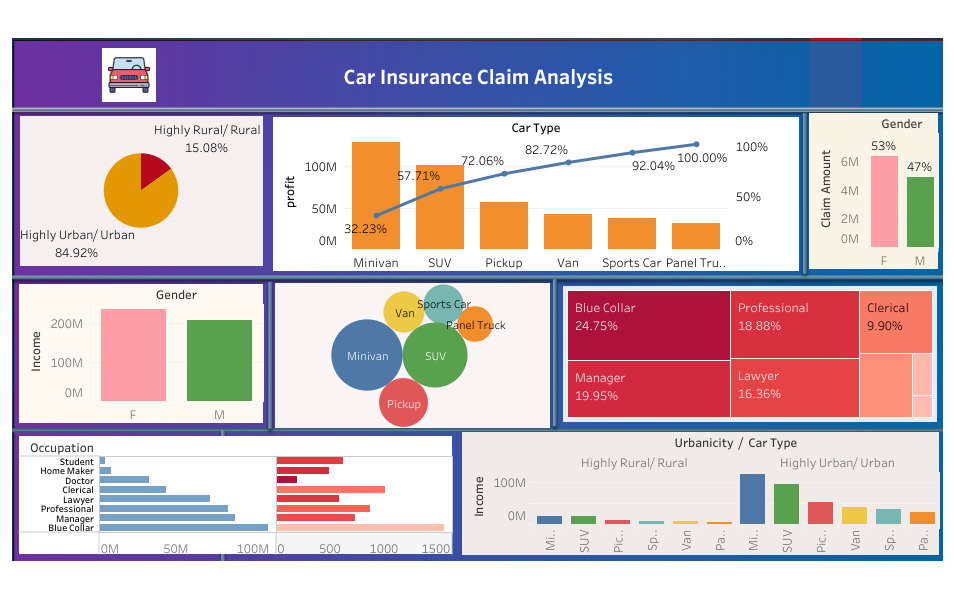

Layout of this report page (visuals, bound fields, positions):
{"tool":"tableau","page":{"name":"Dashboard 5","canvas":[1000,1000],"units":"permille","ordinal":4},"visuals":[{"type":"image","param":"Image/Tablue_background.png","box":[8.4,13.3,983.2,973.3]},{"type":"text","box":[24.1,76.7,953.9,100]},{"type":"image","param":"Image/carimage.gif","box":[25.1,80,219.9,90]},{"type":"legend","title":"Income Vs Claim","param":"[federated.0nkajm80y9i0zp1g5521x02kgp4m].[sum:CLM_FREQ:qk]","box":[851.5,172.8,65.8,276.2]},{"type":"parameter","param":"[Parameters].[Parameter 1]","box":[917.3,172.8,65.8,276.2]},{"type":"worksheet","title":"Income Bifercation","mark":"Pie","box":[16.8,186.7,261.8,261.7]},{"type":"worksheet","title":"Sheet 25","mark":"Automatic","rows":["CLM_AMT"],"cols":["GENDER"],"box":[847.1,188.3,135.1,260]},{"type":"worksheet","title":"car type vs profit parito","mark":"Automatic","rows":["Calculation_803048144566624260","Calculation_803048144566624260"],"cols":["CAR_TYPE"],"box":[285.9,195,550.8,256.7]},{"type":"worksheet","title":"Sheet 26","mark":"Automatic","rows":["INCOME"],"cols":["GENDER"],"box":[15.7,466.7,263.9,245]},{"type":"worksheet","title":"ocupation wise comp","mark":"Automatic","box":[585.3,470,398.9,240]},{"type":"worksheet","title":"Sheet 27","mark":"Circle","box":[288,471.7,286.9,240]},{"type":"worksheet","title":"Income Vs Claim","mark":"Automatic","rows":["OCCUPATION"],"cols":["INCOME","CLM_FREQ"],"box":[15.7,720,462.8,211.7]},{"type":"worksheet","title":"Sheet 23","mark":"Automatic","rows":["INCOME"],"cols":["URBANICITY","CAR_TYPE"],"box":[483.8,720,499.5,206.7]}]}

Visuals, with their boxes on the dashboard's canvas, which has no fixed pixel size, in thousandths of its width and height (x1, y1, x2, y2). These are canvas units, not pixel positions in the 954x599 screenshot, which may show the page scaled, cropped or inside an application window:
image: <region>8, 13, 992, 987</region>
text: <region>24, 77, 978, 177</region>
image: <region>25, 80, 245, 170</region>
"Income Vs Claim" legend: <region>852, 173, 917, 449</region>
parameter: <region>917, 173, 983, 449</region>
"Income Bifercation" worksheet (Pie marks): <region>17, 187, 279, 448</region>
"Sheet 25" worksheet: <region>847, 188, 982, 448</region>
"car type vs profit parito" worksheet: <region>286, 195, 837, 452</region>
"Sheet 26" worksheet: <region>16, 467, 280, 712</region>
"ocupation wise comp" worksheet: <region>585, 470, 984, 710</region>
"Sheet 27" worksheet (Circle marks): <region>288, 472, 575, 712</region>
"Income Vs Claim" worksheet: <region>16, 720, 478, 932</region>
"Sheet 23" worksheet: <region>484, 720, 983, 927</region>
